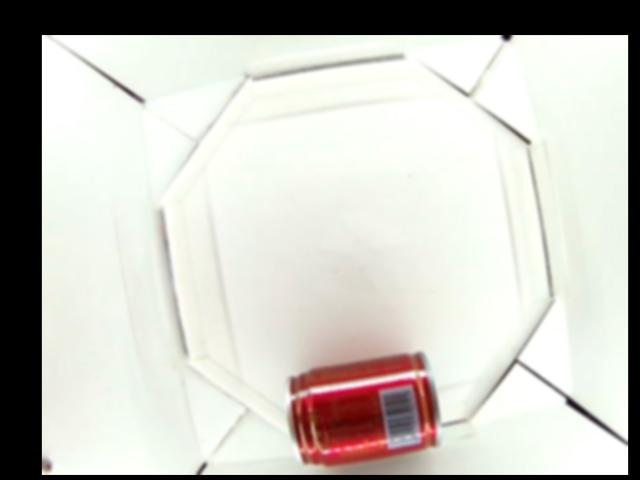Bottle: (290, 352, 442, 467)
